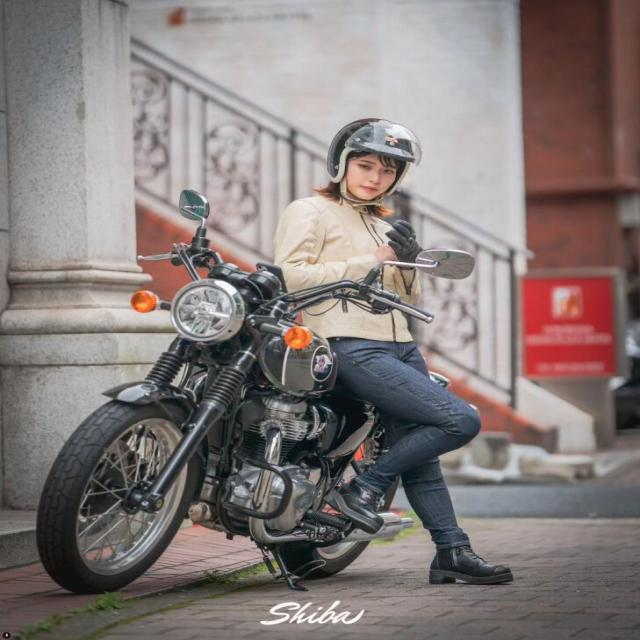helmet: (321, 115, 424, 205)
